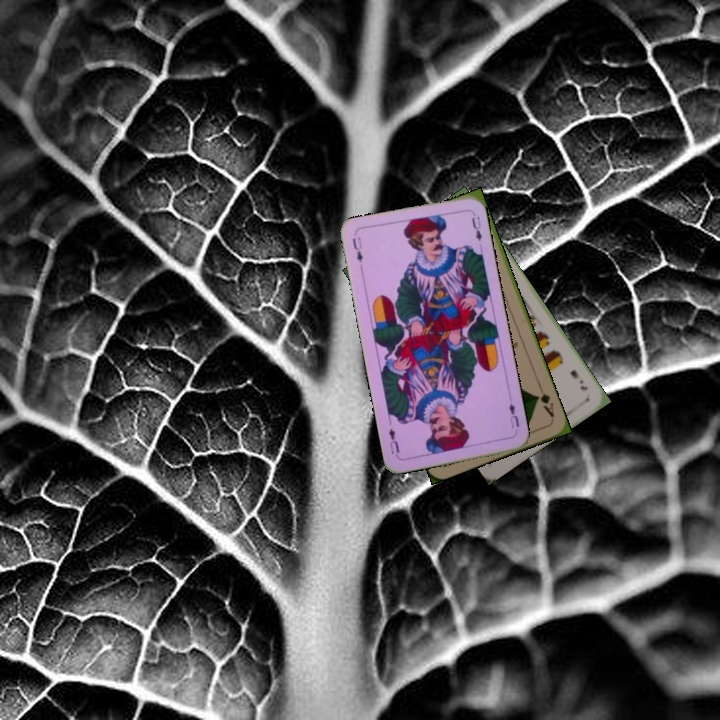E7: (566, 366, 590, 393)
EU: (505, 399, 522, 431), (349, 233, 366, 265)
GA: (532, 383, 557, 422)
